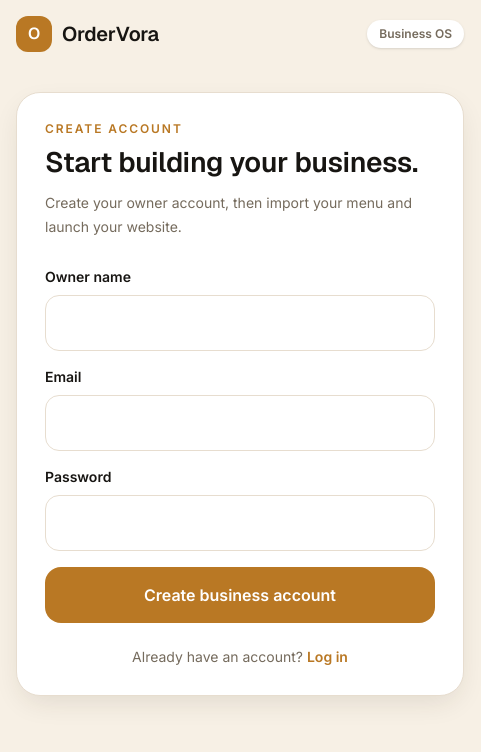
RegisterPage — §17: a client-side timeout must not report failure for a signup that actually succeeded › shows the real error directly for a genuine (non-timeout) failure, e.g. email already in use
The image size is (481, 752).
Type "Joe Smith" into the field labelled "Owner name" at (240, 323), box [45, 295, 435, 351]
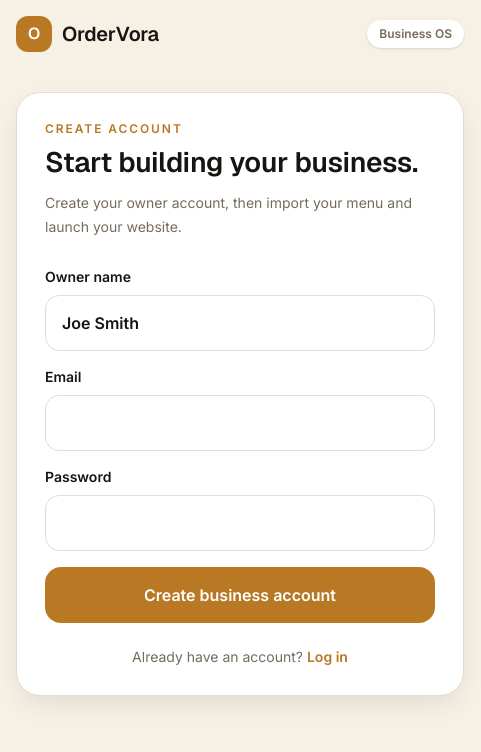
Type "joe@example.com" into the field labelled "Email" at (240, 423), box [45, 395, 435, 451]
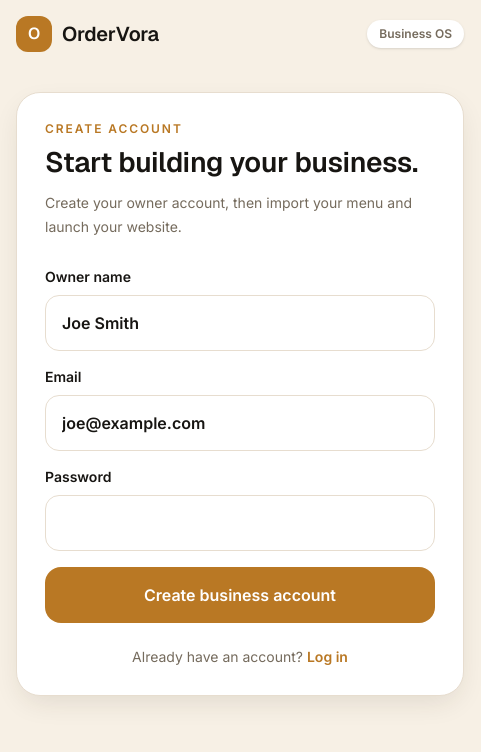
Type "hunter222" into the password field labelled "Password" at (240, 523), box [45, 495, 435, 551]
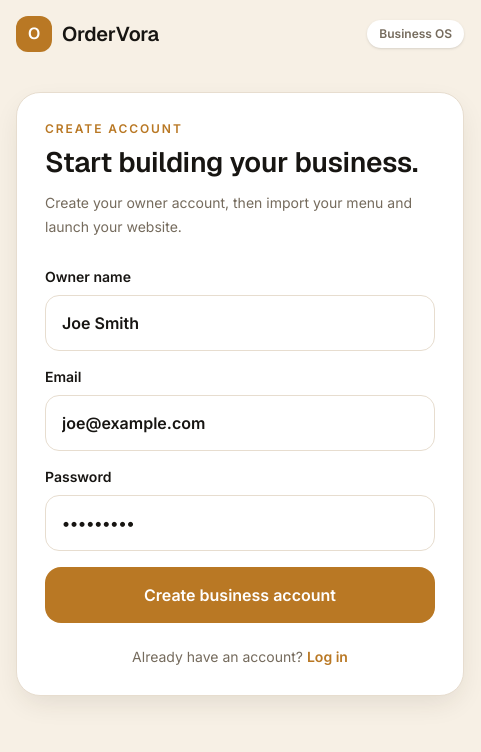
Click the button "Create business account" at (240, 595), box [45, 567, 435, 623]
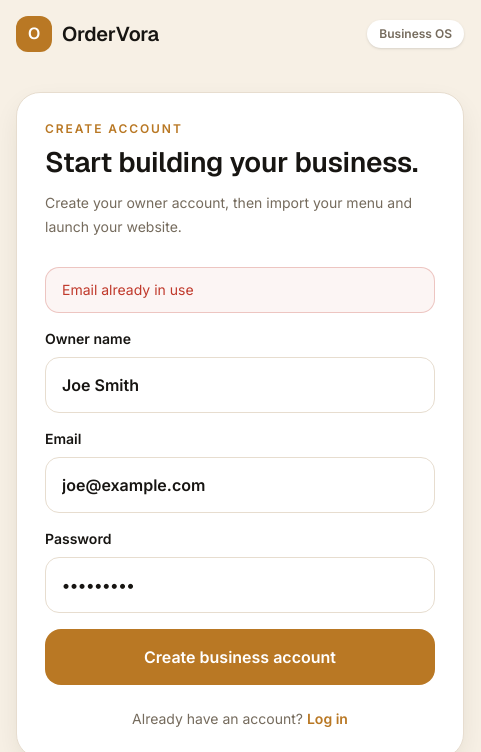
Expected: the text "Email already in use" is shown, [45, 267, 435, 313]
